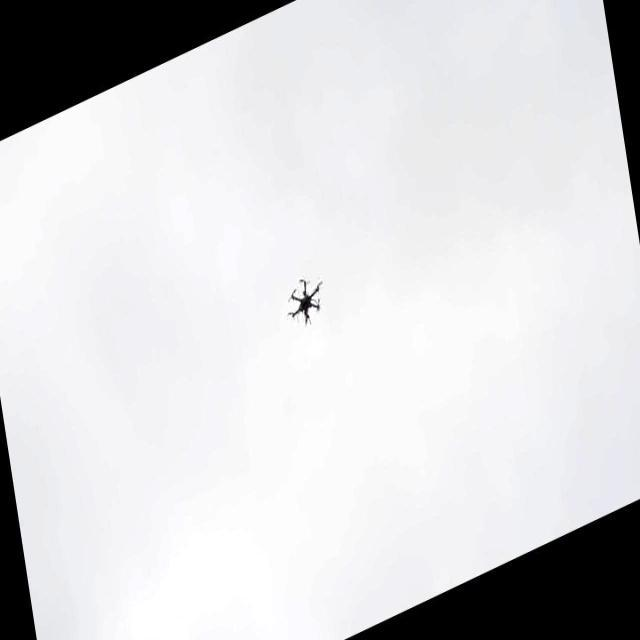drone: (279, 256, 330, 350)
